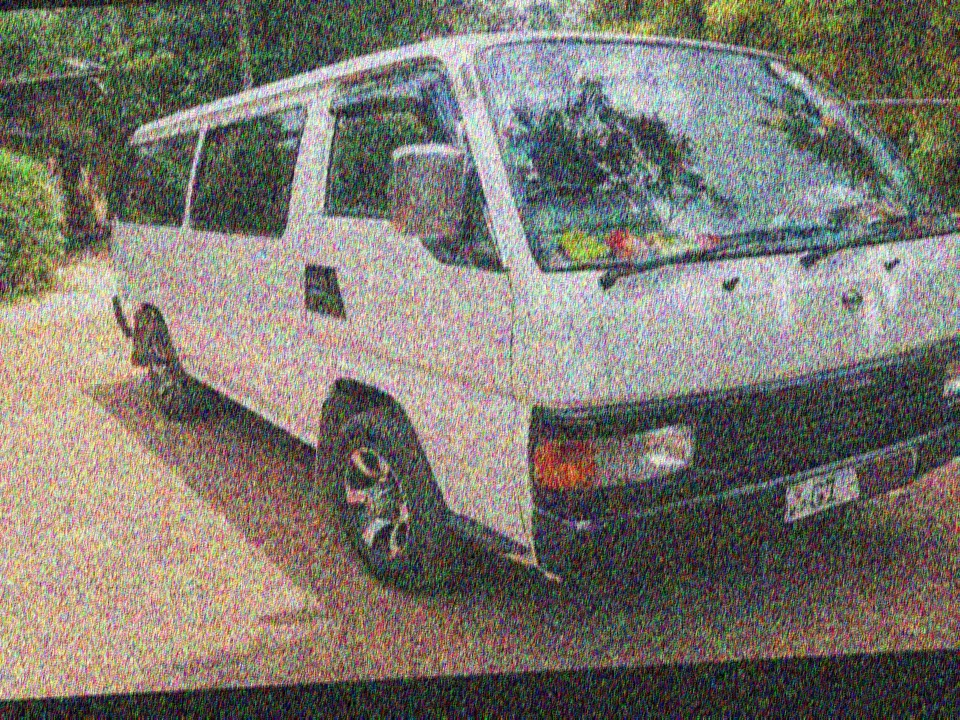van: (107, 1, 960, 585)
